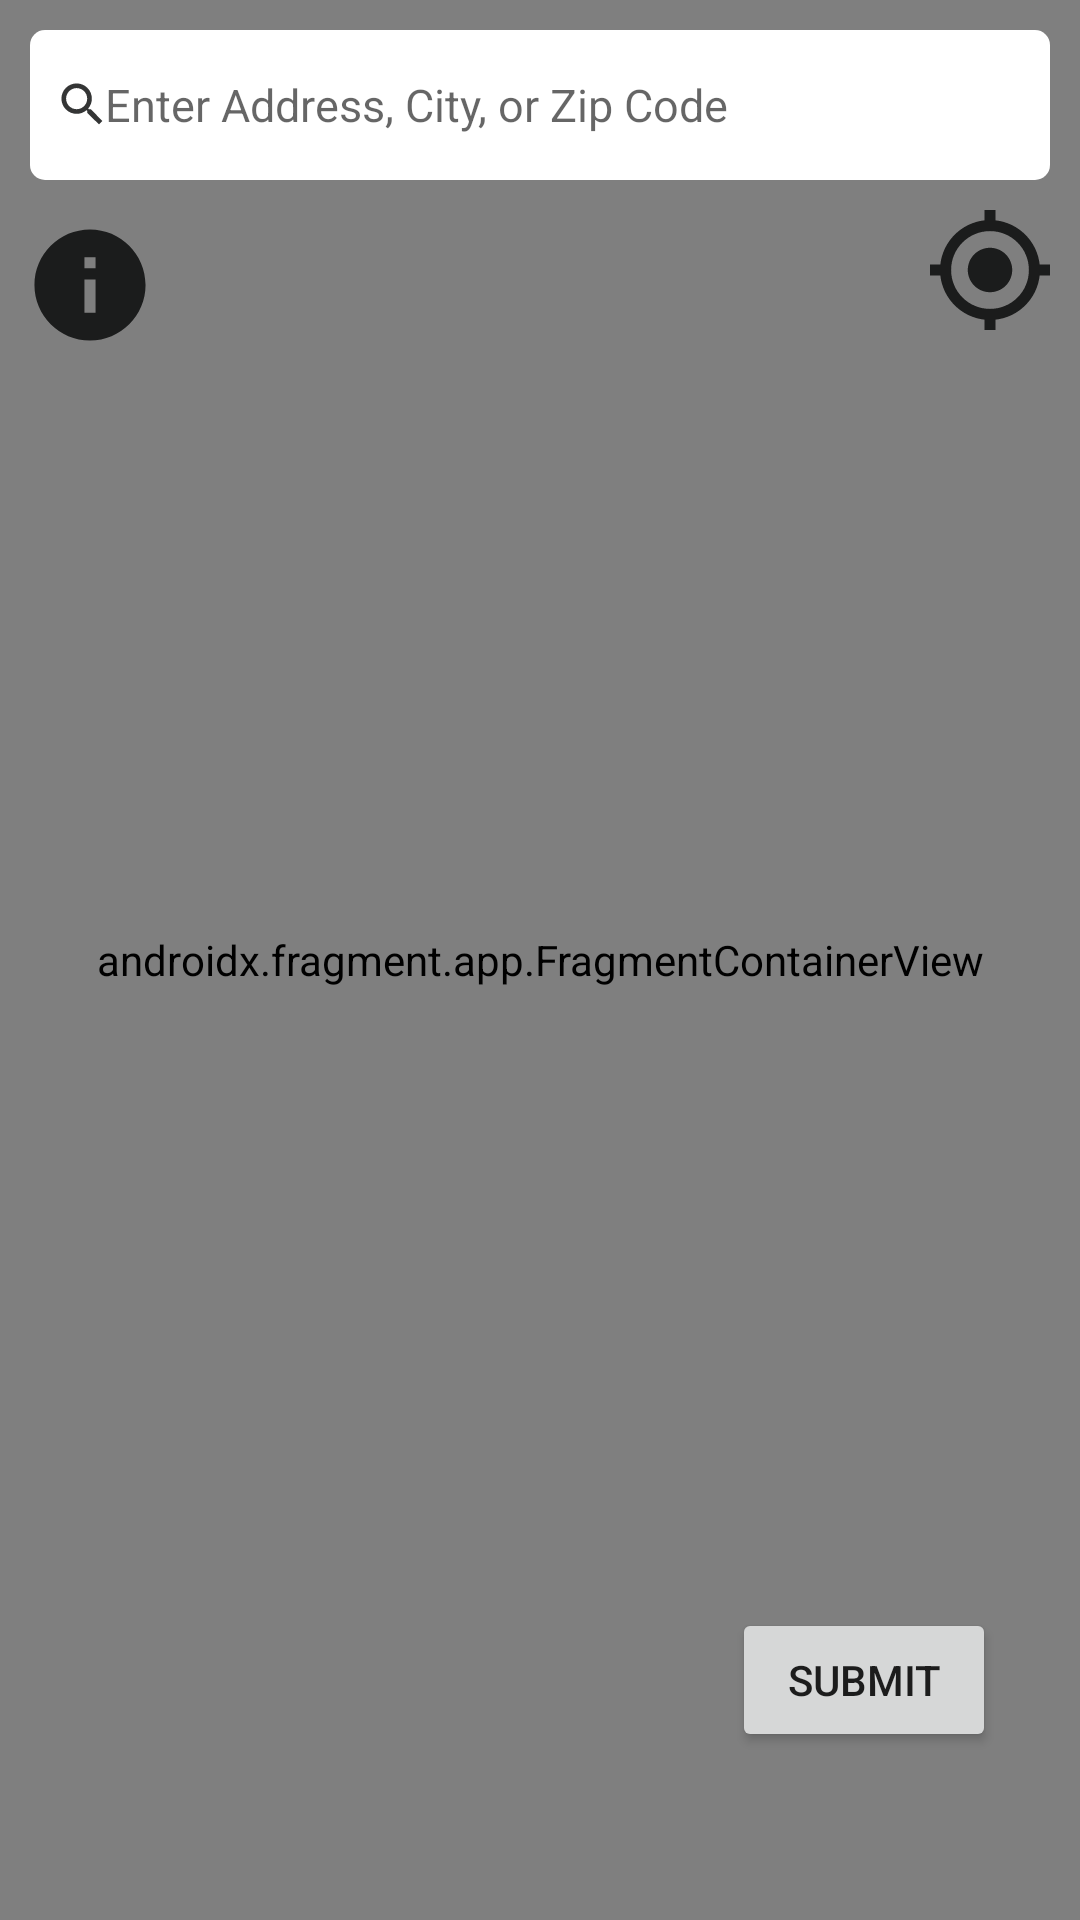

Where to tap for icons on this 1080*1920 app screen, as [x,y]:
info: [90,285]
magnify: [81,103]
